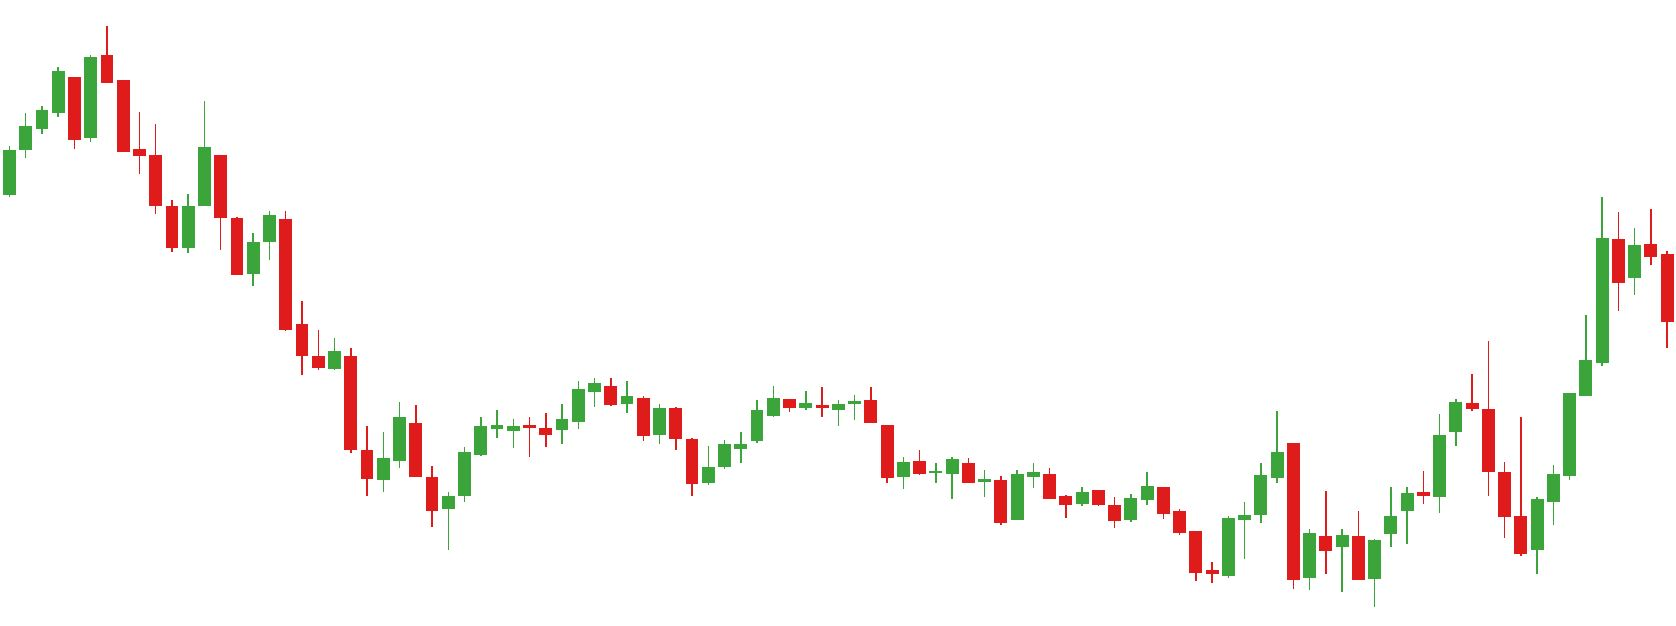buy: (1188, 499, 1318, 599), (358, 437, 457, 547)
